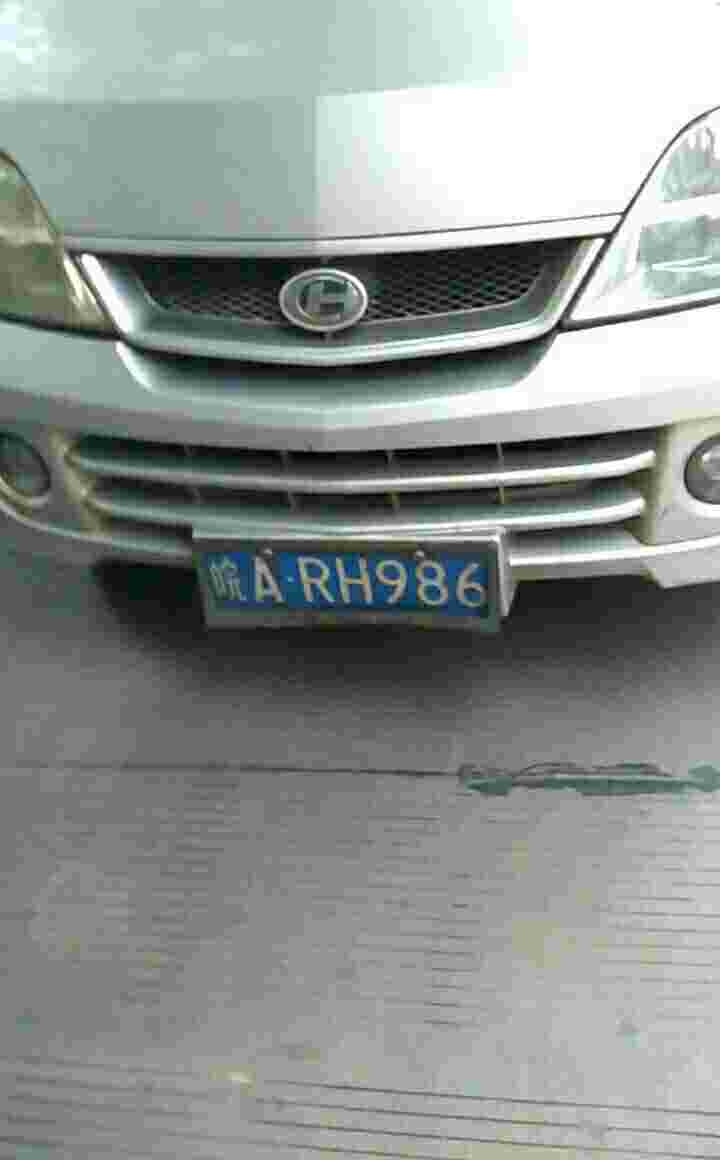license_plate: (203, 544, 490, 618)
